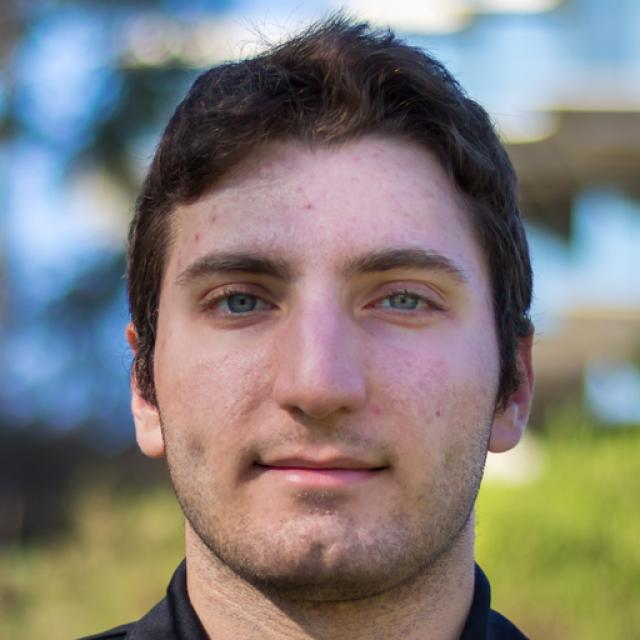Acne: (241, 195, 260, 209), (188, 232, 205, 245), (303, 198, 316, 214)
